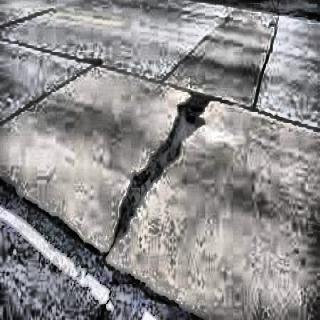pothole: (102, 88, 211, 259)
